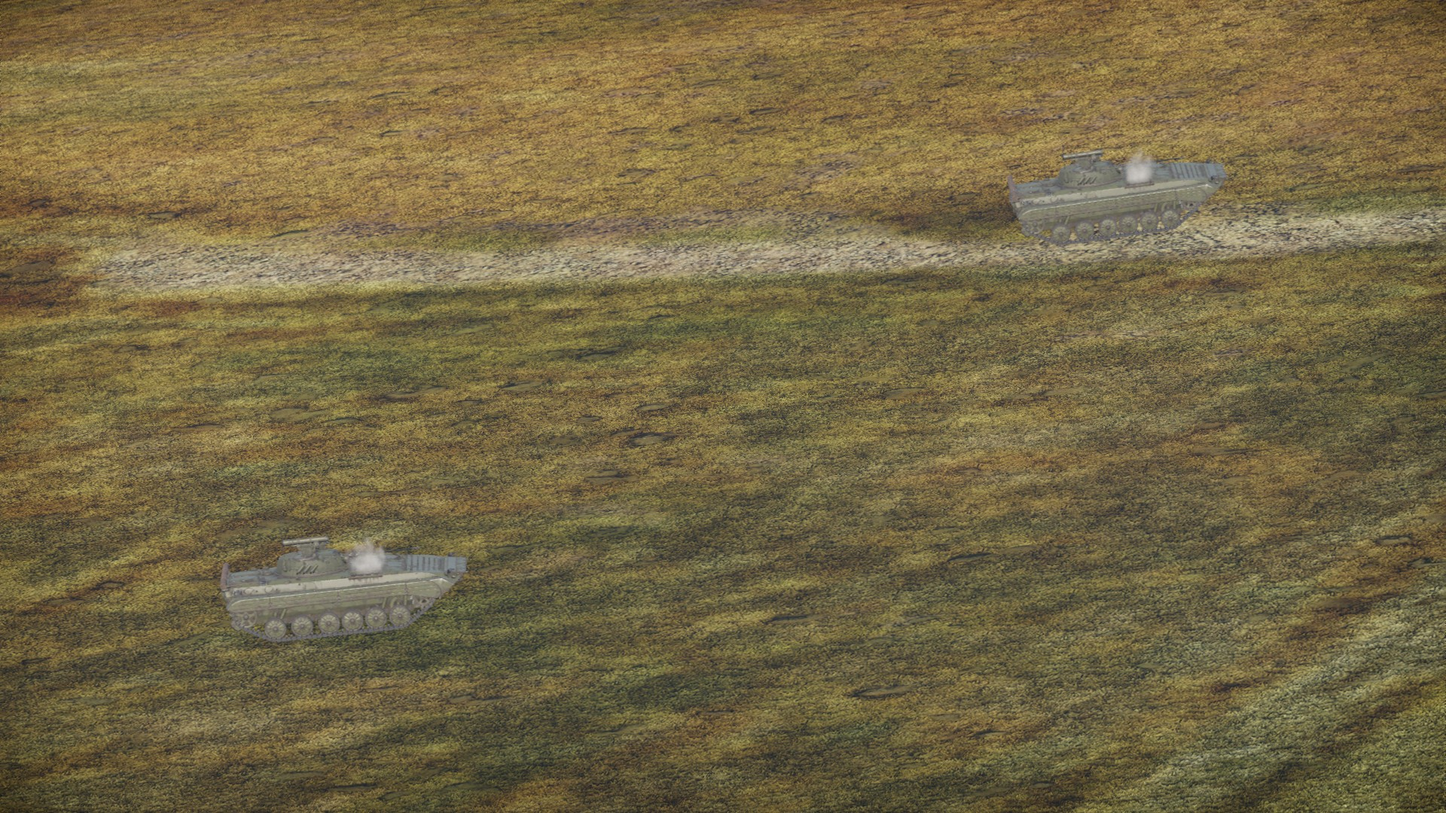bmp2: (219, 535, 468, 642), (1006, 150, 1226, 247)
